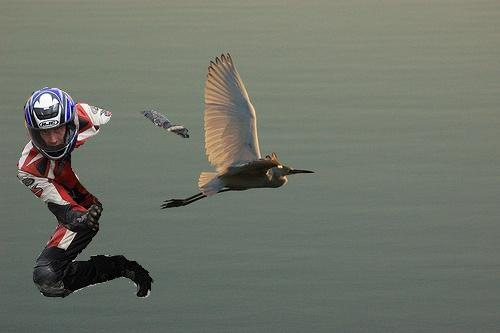tampered: (18, 87, 189, 298)
